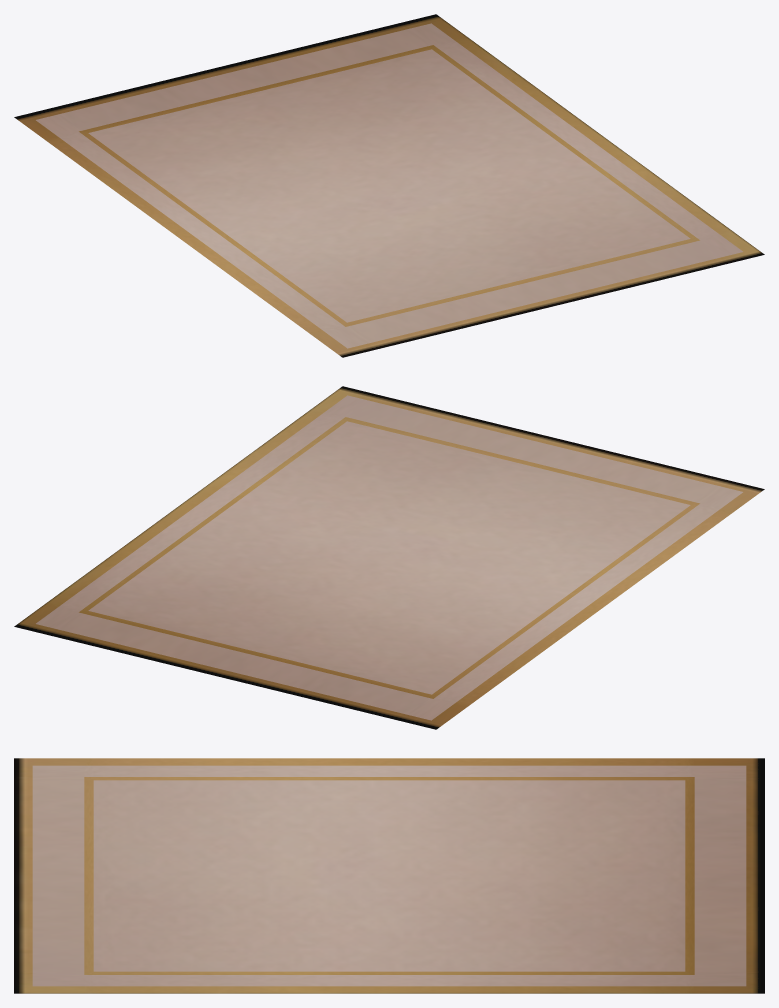
Rendered from SM_flated_pillar_rug_01.fbx.
3 renders of one model, top to bottom at view 1: azimuth 30°, elevation 25°; view 2: azimuth 150°, elevation 25°; view 3: azimuth 270°, elevation 25°, orthographic. The views are drawn at different scales.
Parts seen in each view (by area): view 1: SM_flated_pillar_rug_01; view 2: SM_flated_pillar_rug_01; view 3: SM_flated_pillar_rug_01.
Boxes of the visible parts, <box> form: SM_flated_pillar_rug_01: <box>14,14,764,357</box>; SM_flated_pillar_rug_01: <box>14,386,764,729</box>; SM_flated_pillar_rug_01: <box>14,758,764,993</box>.
Bounding box in the file's own units: 2.96 × 0 × 3.99.
